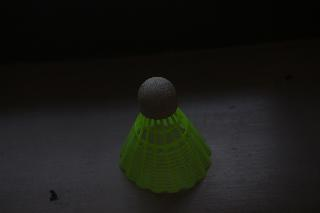shuttlecock: (120, 77, 210, 192)
